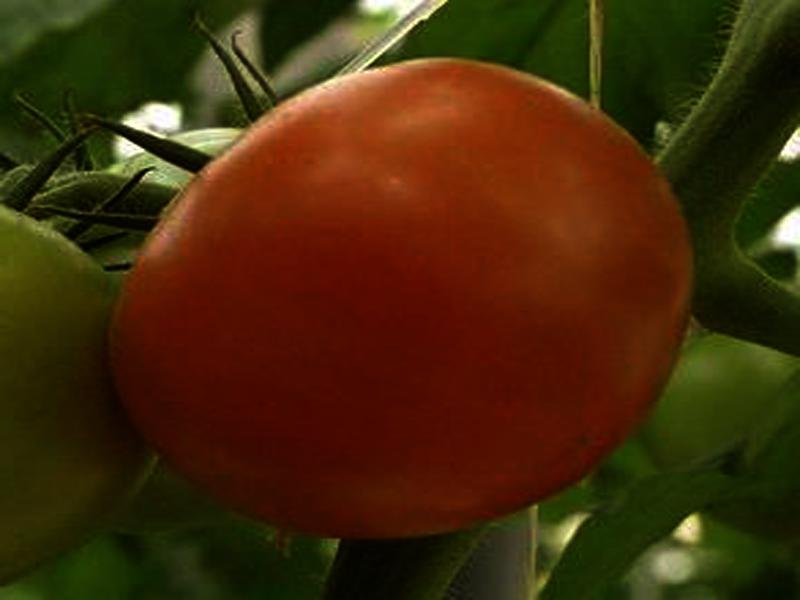Tomato: (111, 55, 693, 538)
